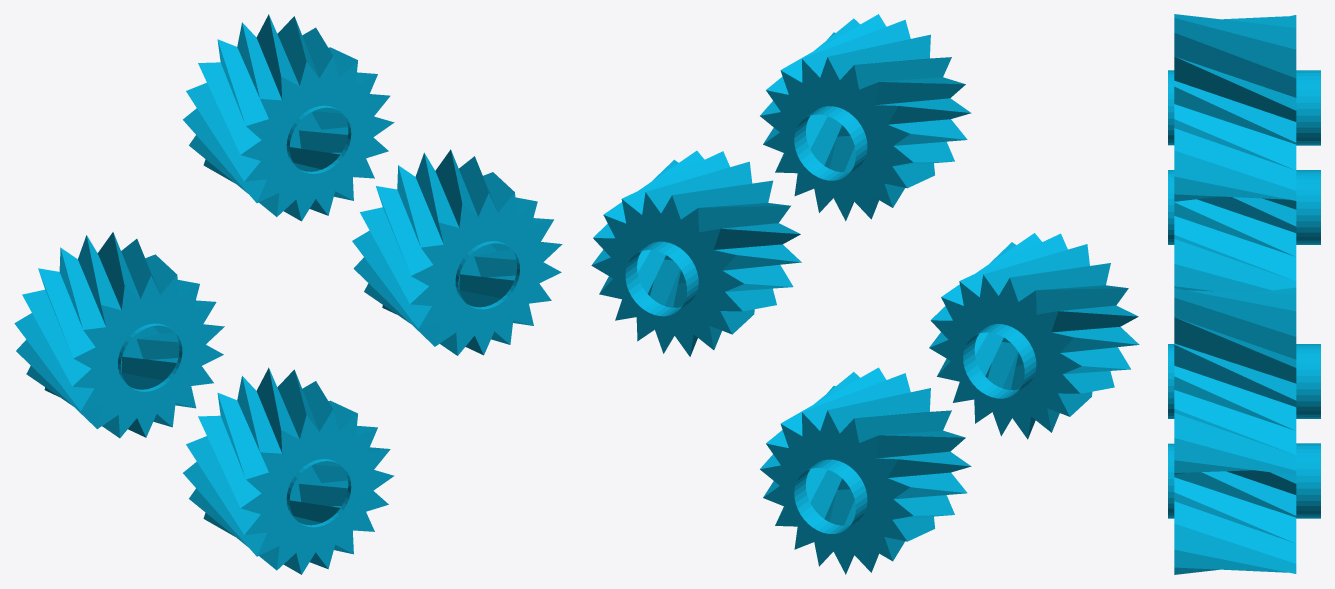
The model's file is 672-planet gears.fbx.
The picture shows the model from 3 angles, left to right: view 1: azimuth 30°, elevation 25°; view 2: azimuth 150°, elevation 25°; view 3: azimuth 270°, elevation 25°; orthographic projection. The views are drawn at different scales.
Visible parts, largest first — view 1: planet 4, planet 2, planet 1, planet 3; view 2: planet 2, planet 4, planet 1, planet 3; view 3: planet 3, planet 2, planet 1, planet 4.
Part boxes in pixels (x1,y1,x2,y2): planet 4: (14, 232, 224, 438); planet 2: (352, 149, 562, 355); planet 1: (183, 367, 394, 574); planet 3: (183, 14, 394, 221); planet 2: (591, 150, 801, 356); planet 4: (929, 233, 1139, 439); planet 1: (760, 367, 971, 574); planet 3: (760, 14, 971, 221); planet 3: (1168, 14, 1320, 201); planet 2: (1168, 287, 1320, 475); planet 1: (1168, 443, 1320, 574); planet 4: (1168, 170, 1320, 292).
Size of the model in its own units: 980 by 980 by 250.
